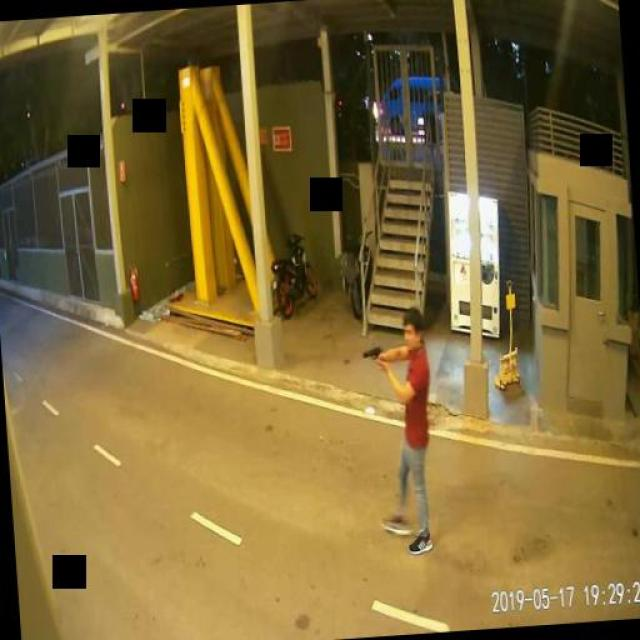gun: (360, 344, 384, 368)
